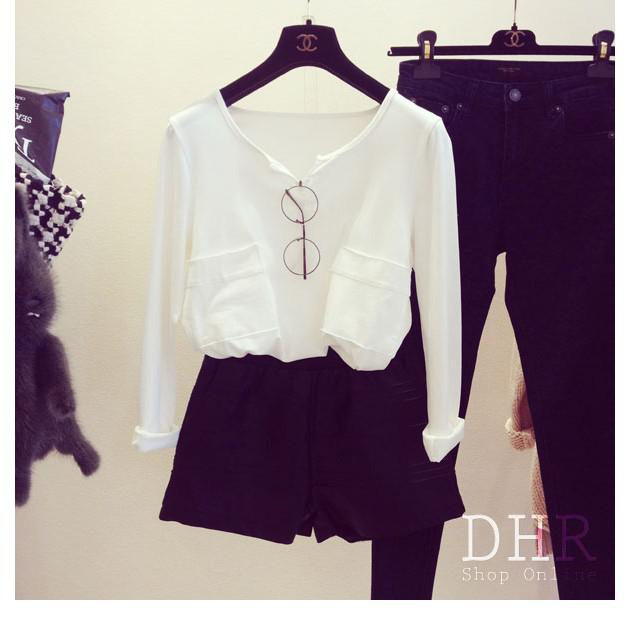Shorts: (157, 352, 467, 548)
Tops: (145, 84, 466, 371)
